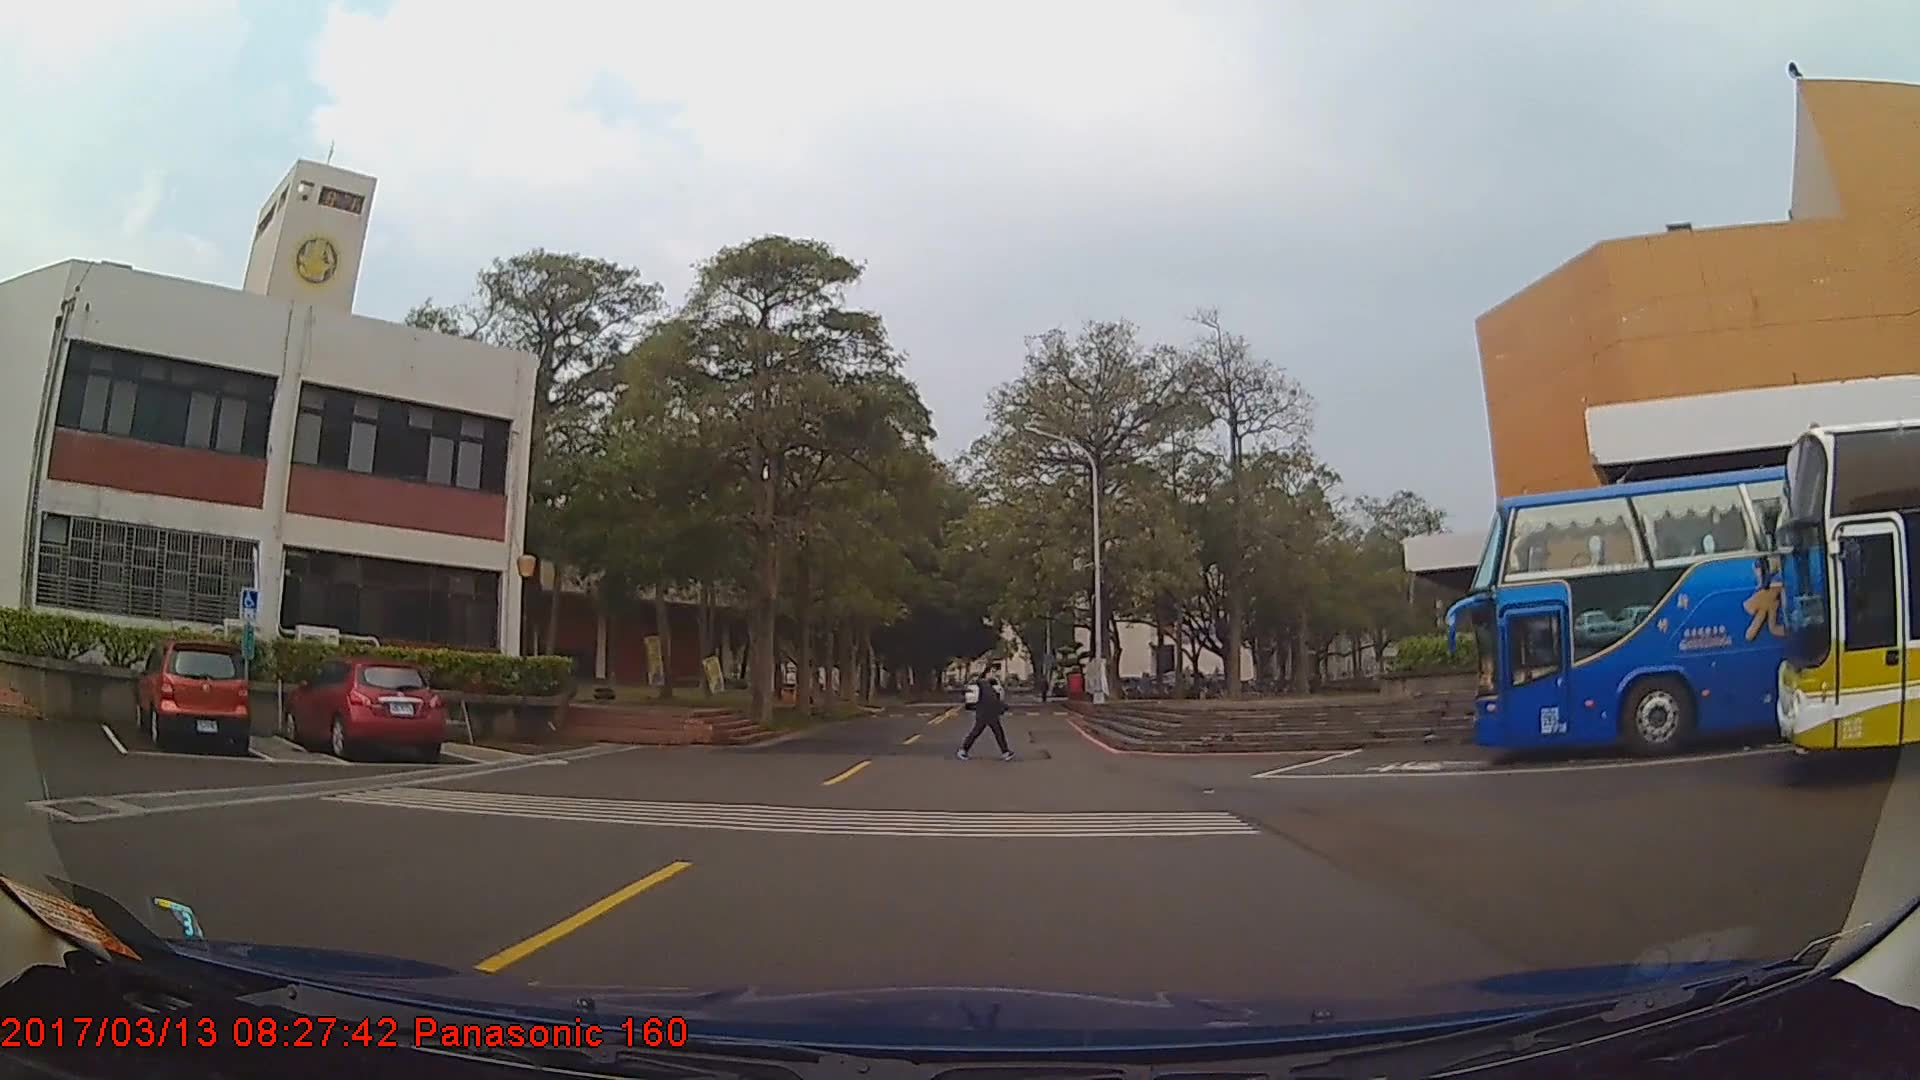pedestrian: (962, 663, 1015, 766)
vehicle: (1472, 445, 1920, 762), (1778, 419, 1920, 769), (279, 660, 440, 763), (133, 641, 248, 754)
